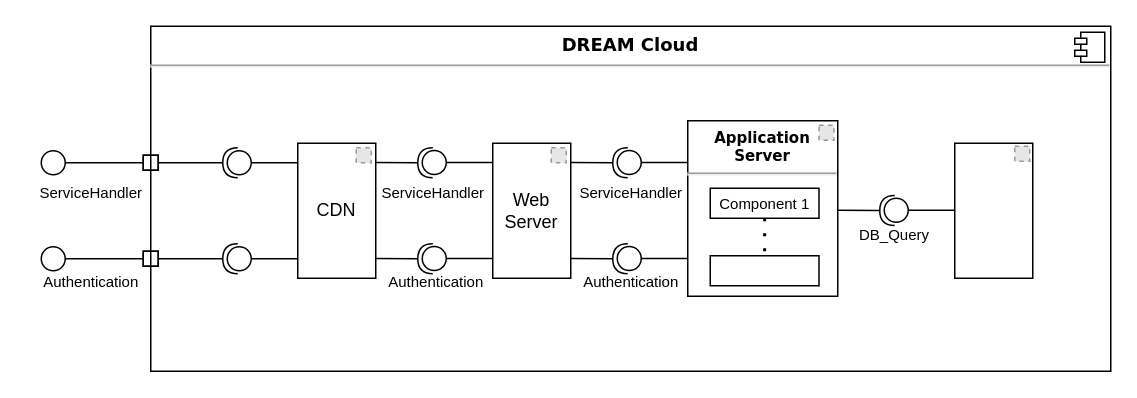
Some shapes in this 1137 by 398 pixel diagram are drawn without their labels. Grey dashed boxes stand in for pictures. The centre of each missing label's shape, as x and y in pixels:
"Component N" belongs at (x=764, y=270).
"DBMS Server" belongs at (x=993, y=210).
